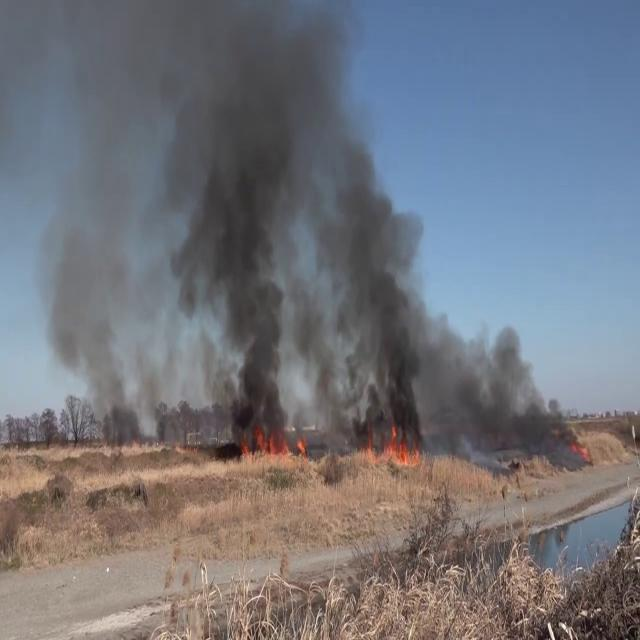Fire: (358, 415, 424, 469), (237, 415, 304, 468)
Smoke: (3, 0, 430, 436), (422, 307, 575, 462)
